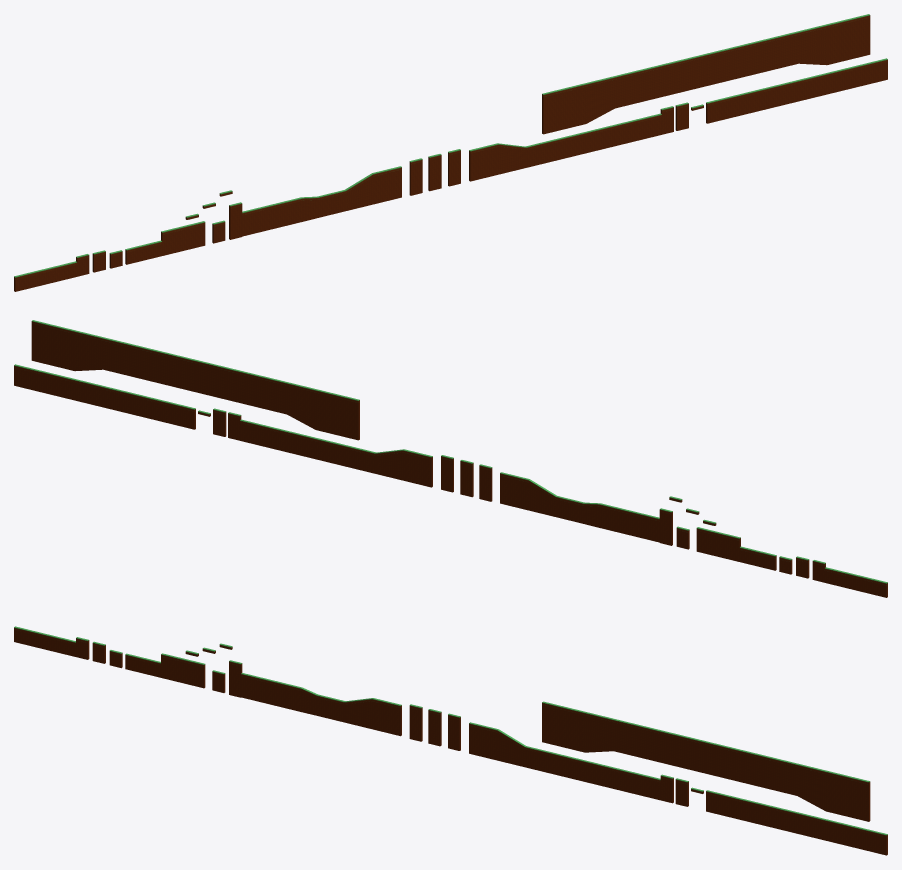
The model's file is map.fbx.
3 views of the same model, one above another, from view 1: azimuth 30°, elevation 25°; view 2: azimuth 150°, elevation 25°; view 3: azimuth 330°, elevation 25° (orthographic).
Visible parts, largest first — view 1: grass.001; view 2: grass.001; view 3: grass.001.
Part boxes in pixels (box(x1,y1,x2,y2)): grass.001: box(14, 14, 887, 291); grass.001: box(14, 320, 887, 597); grass.001: box(14, 626, 887, 855).
Size of the model in its own units: 783 by 2 by 59.26.
Materials: 3 (3 with a texture image).
